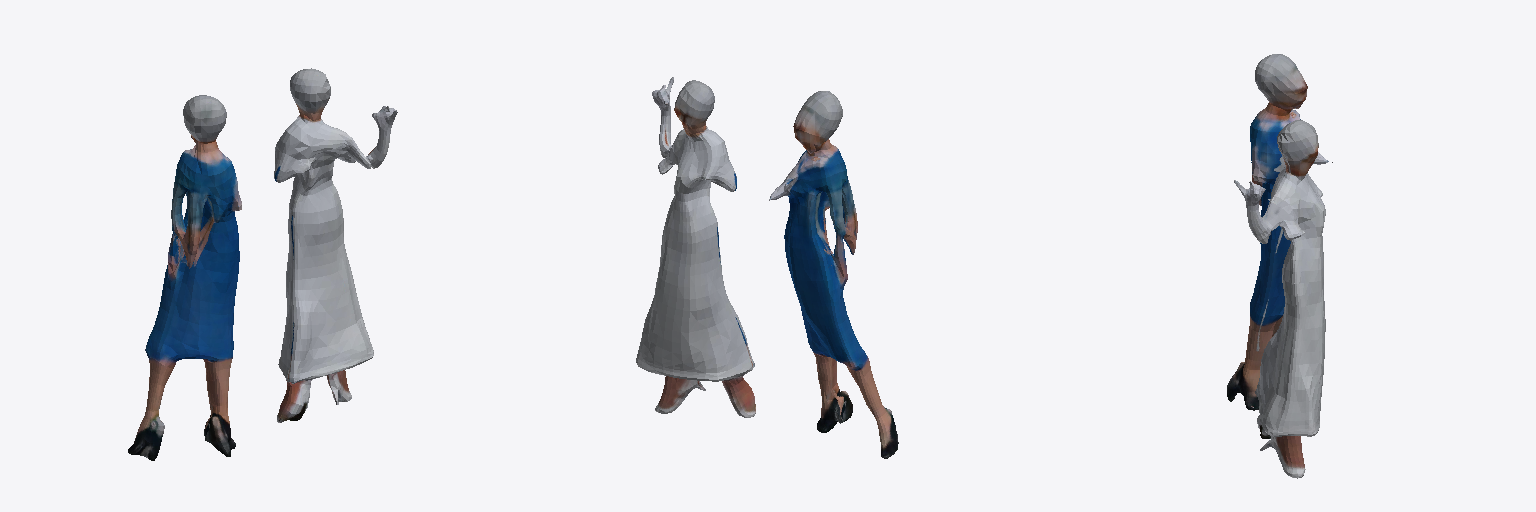
The picture shows the model from 3 angles: view 1: azimuth 30°, elevation 25°; view 2: azimuth 150°, elevation 25°; view 3: azimuth 270°, elevation 25°; orthographic projection.
Visible parts, largest first — view 1: mesh; view 2: mesh; view 3: mesh.
Part boxes in pixels (left/top/right/bottom): mesh: left=128, top=68, right=397, bottom=460; mesh: left=636, top=77, right=898, bottom=458; mesh: left=1227, top=54, right=1332, bottom=478.
Size of the model in its own units: 0.767 by 0.9984 by 0.278.
Materials: 1 (1 with a texture image).